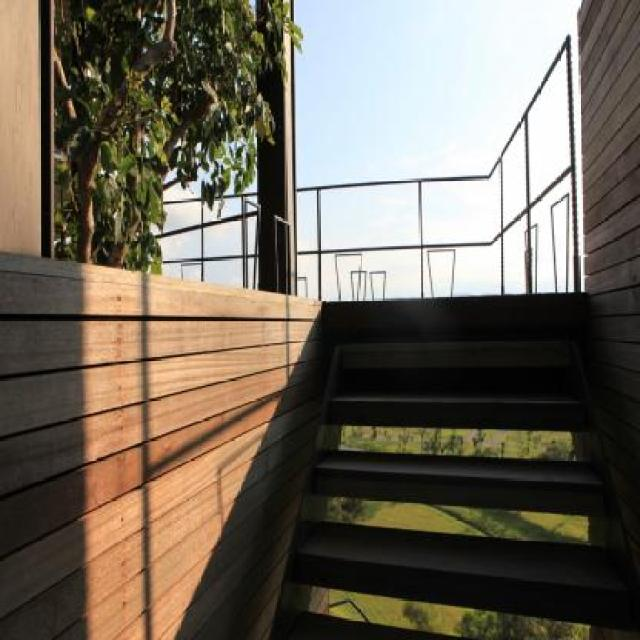stair: (267, 292, 640, 639)
